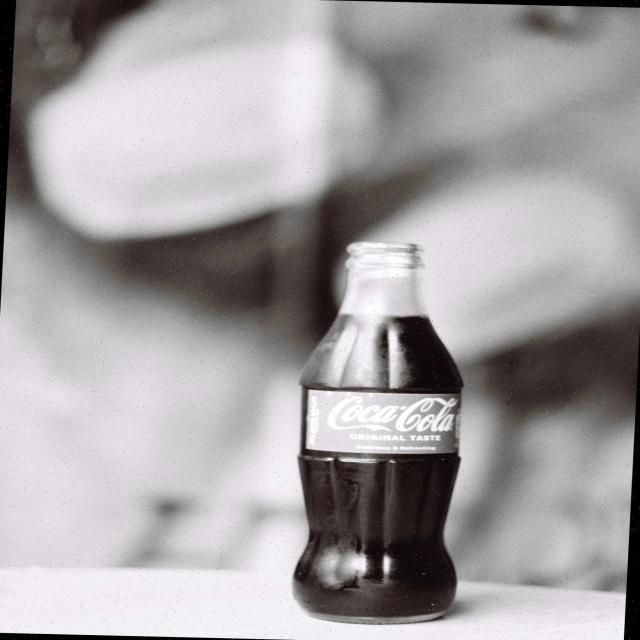coca-cola: (321, 392, 464, 438)
